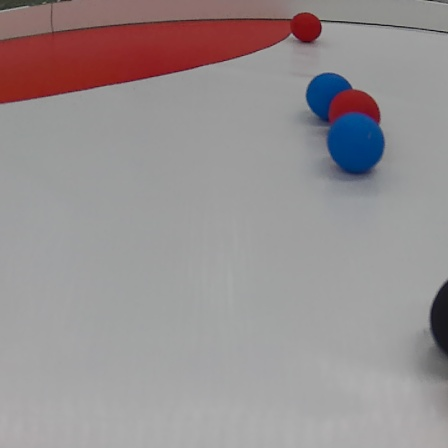blue: (323, 116, 387, 172), (302, 67, 351, 118)
red: (327, 85, 380, 128), (290, 11, 325, 40)
red_base: (2, 13, 310, 93)
